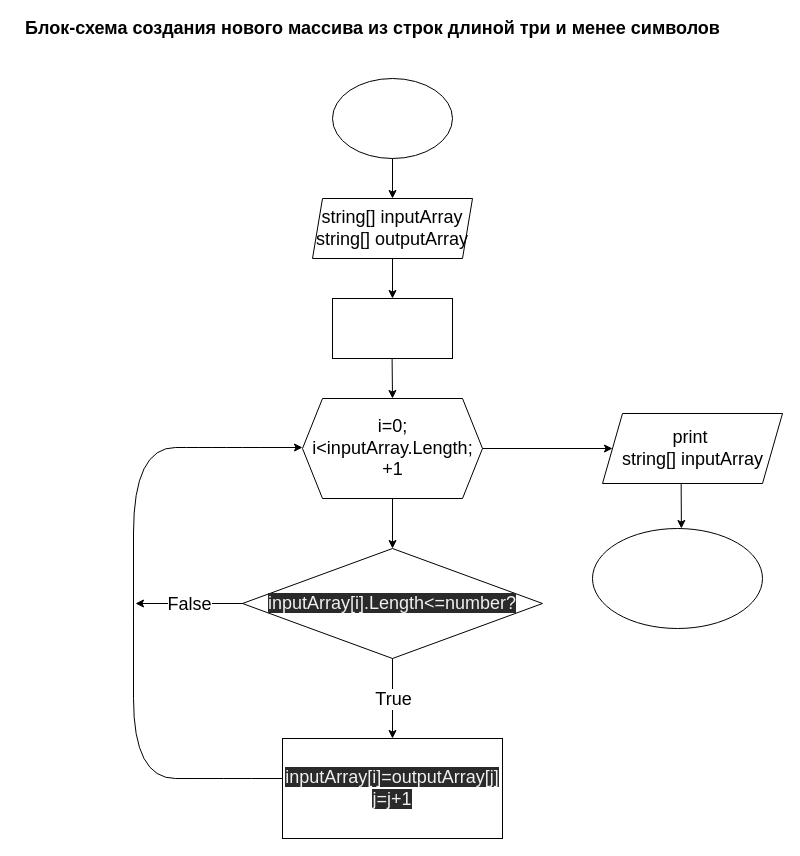
Image size: 800x856. Some labels were removed from this diagram. Each missing label, with the centre of its shape:
"End" belongs at pixel 677 578.
"number = 3; j = 0" belongs at pixel 392 328.
"Start" belongs at pixel 392 118.
